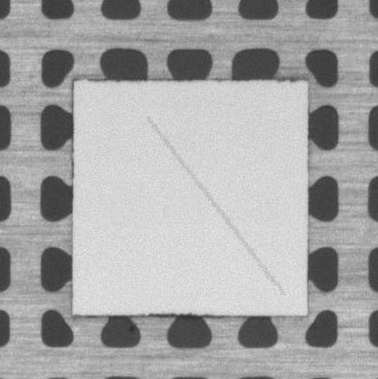DIE_CRACK: (148, 118, 283, 295)
